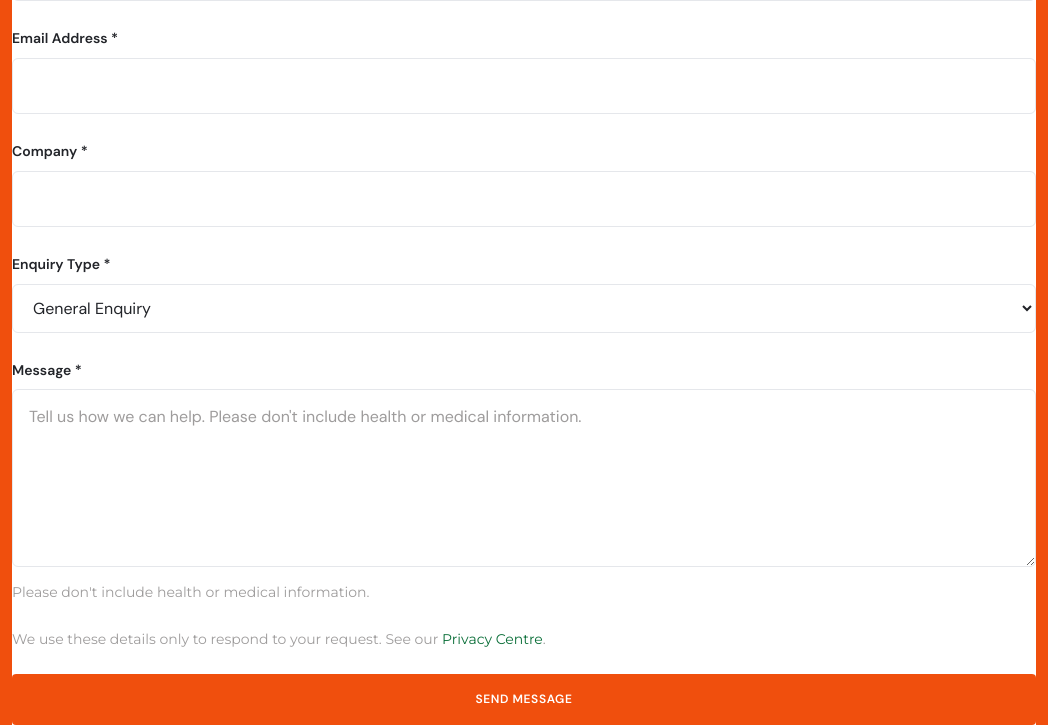
Test case: ContactUsForm › displays validation errors on failure
(page scrolled)
Click the button "Send Message": coordinates (524, 700) [12,674,1036,724]
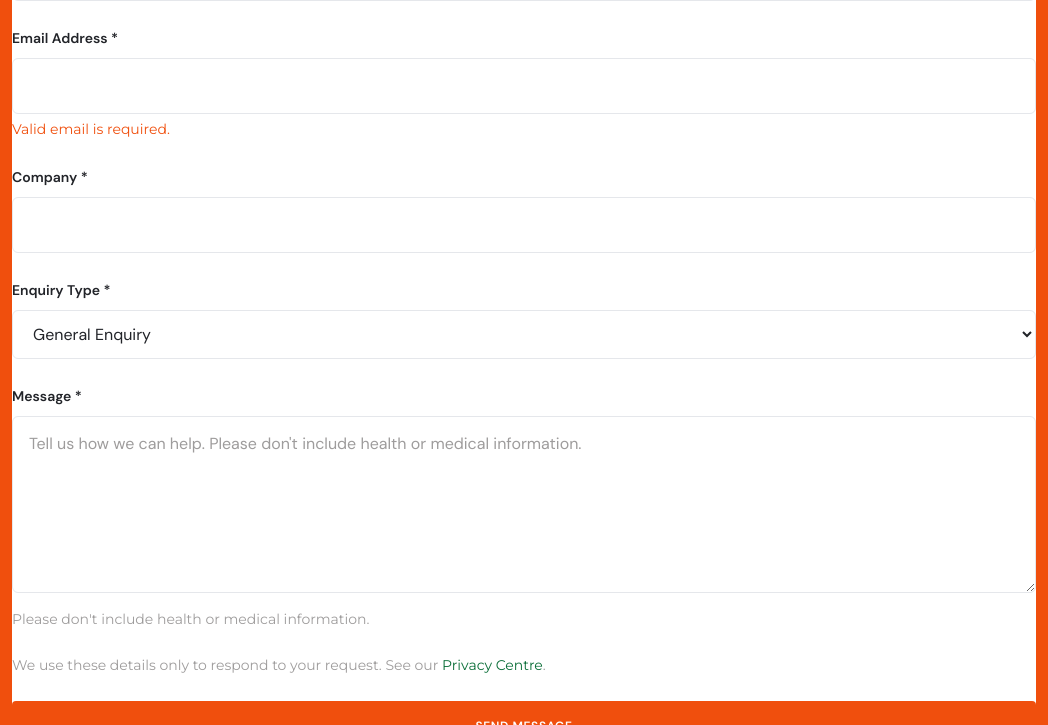
Check: the text "Valid email is required." is shown, box [12,120,170,138]
